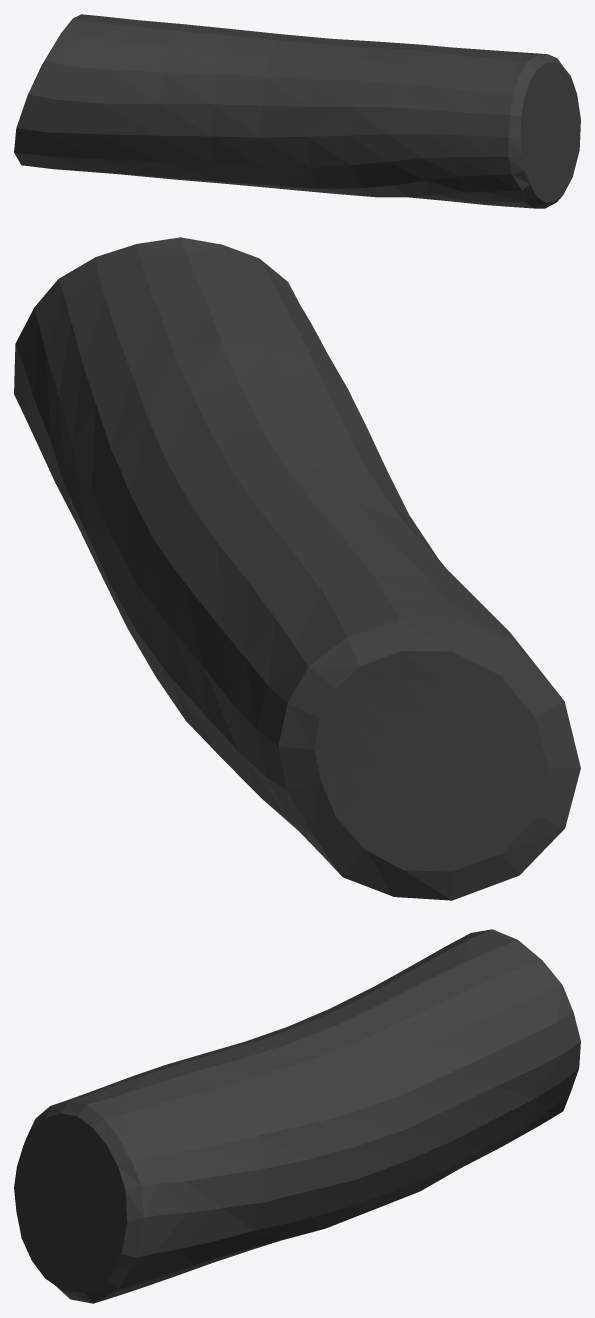
File: L_sided_DESCENDING_AORTA.glb
The picture shows the model from 3 angles, top to bottom: view 1: azimuth 30°, elevation 25°; view 2: azimuth 150°, elevation 25°; view 3: azimuth 270°, elevation 25°; orthographic projection. The views are drawn at different scales.
Parts seen in each view (by area): view 1: L_sided_DESCENDING_AORTA; view 2: L_sided_DESCENDING_AORTA; view 3: L_sided_DESCENDING_AORTA.
Part boxes in pixels (box(x1,y1,x2,y2)): L_sided_DESCENDING_AORTA: box(14, 14, 580, 208); L_sided_DESCENDING_AORTA: box(14, 237, 580, 900); L_sided_DESCENDING_AORTA: box(14, 929, 580, 1303).
Size of the model in its own units: 4.68 by 1.61 by 4.17.
Materials: 1 (1 with a texture image).
